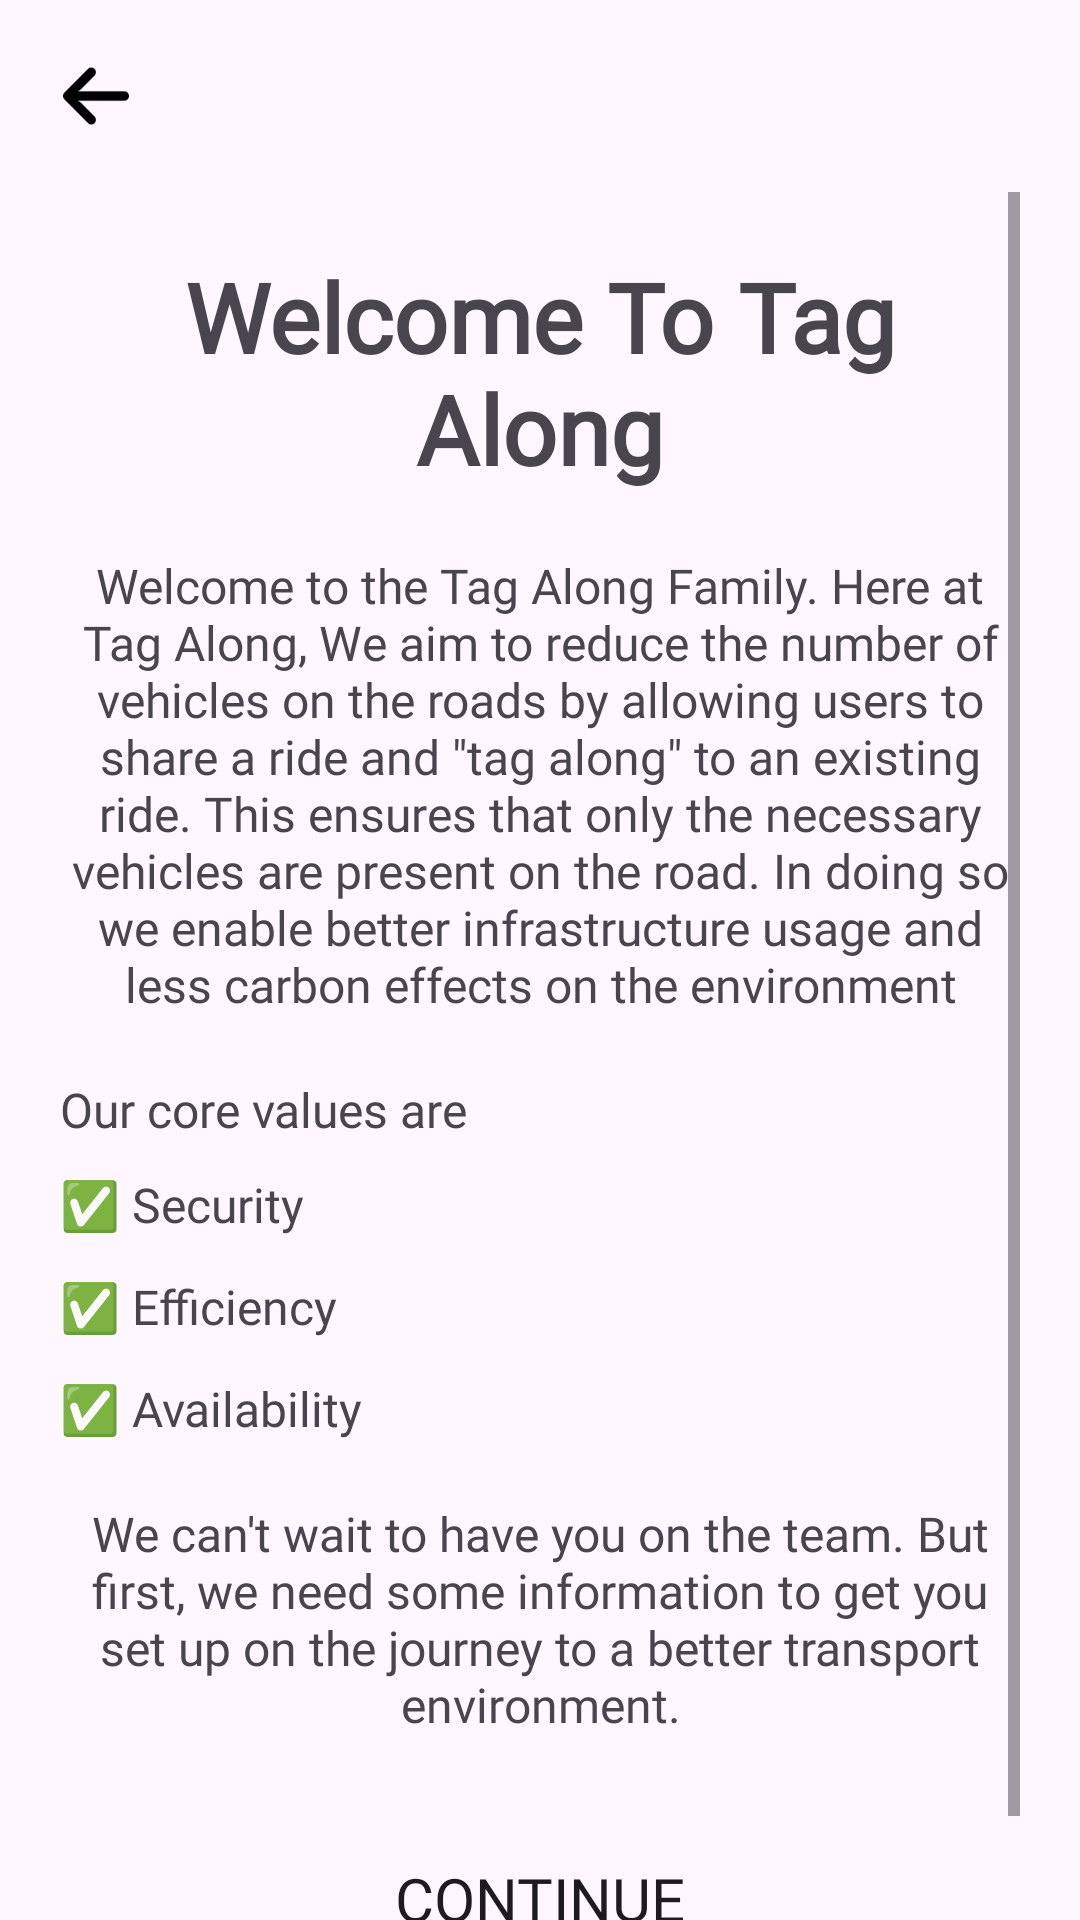

Named icons in this screenshot (1080 x 1920) and their bounding boxes, (x1, y1, x2, y2):
back arrow: (63, 67, 129, 125)
